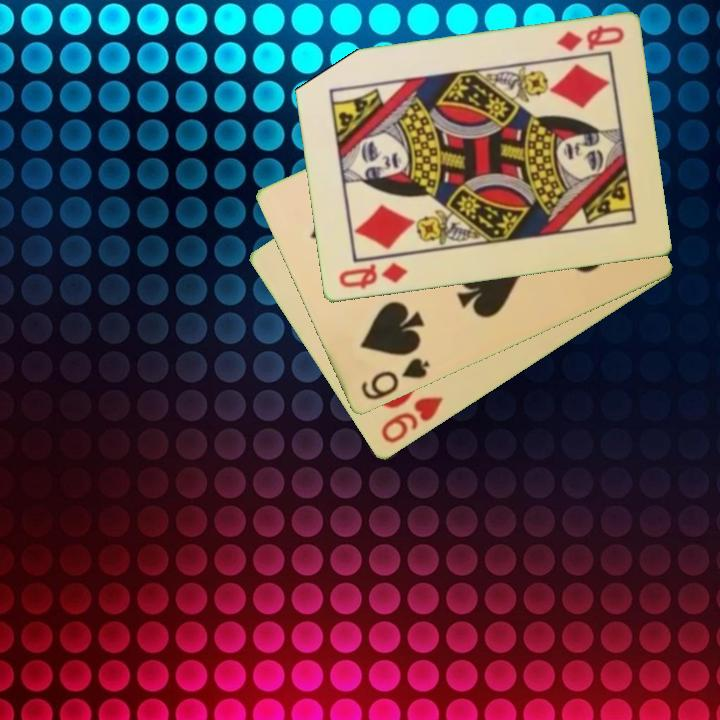6s: (357, 354, 432, 404)
9h: (377, 393, 447, 447)
Qd: (335, 259, 411, 292), (552, 22, 627, 55)
